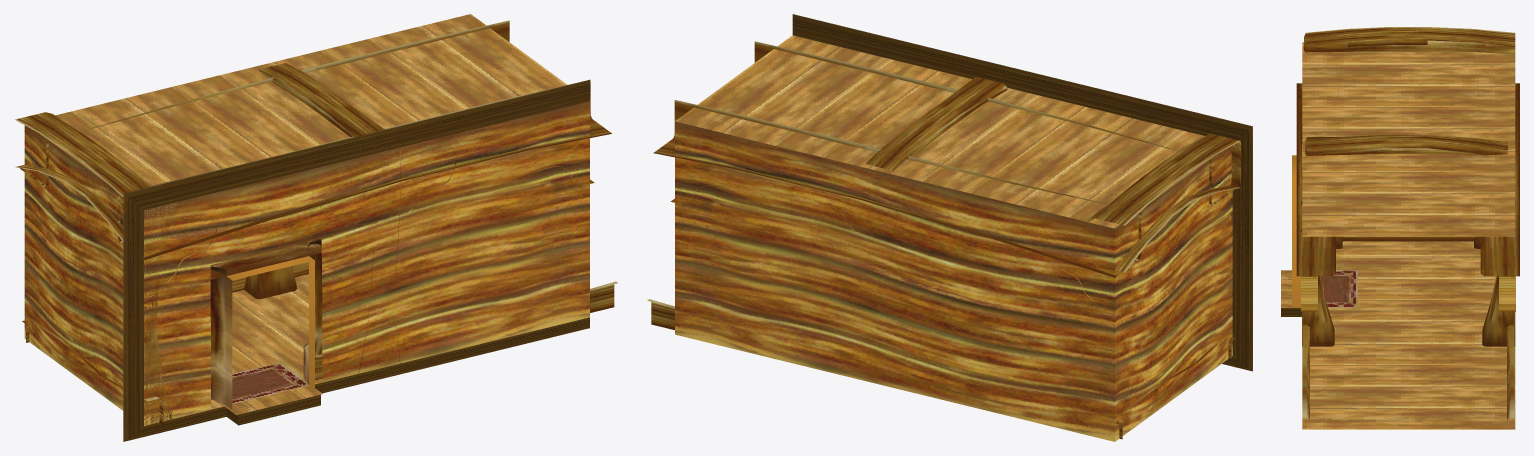
The model's file is room_15.glb.
3 renders of one model, left to right at view 1: azimuth 30°, elevation 25°; view 2: azimuth 150°, elevation 25°; view 3: azimuth 270°, elevation 25°, orthographic. The views are drawn at different scales.
Parts seen in each view (by area): view 1: room_15; view 2: room_15; view 3: room_15.
Boxes of the visible parts, left/top/right/bottom form: room_15: left=15, top=14, right=617, bottom=441; room_15: left=647, top=14, right=1252, bottom=441; room_15: left=1281, top=27, right=1519, bottom=429.
Size of the model in its own units: 1199 by 575 by 561.
Materials: 10 (10 with a texture image).
